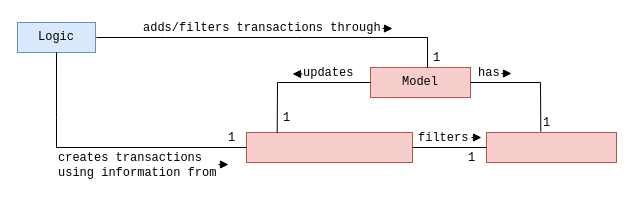
Some shapes in this 634 by 198 pixel diagram are drawn without their labels. The shapes that lost their labels are listed below. From the top down, each one's box as (x1, y1, x2, y2) in pixels, then its label:
(246, 132, 412, 162): TransactionContext
(486, 132, 616, 162): TransactionList
